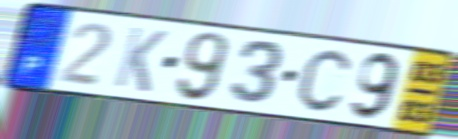2: (57, 21, 113, 89)
3: (228, 38, 288, 107)
9: (175, 30, 230, 104), (349, 50, 405, 122)
C: (296, 47, 353, 114)
K: (110, 24, 171, 95)
